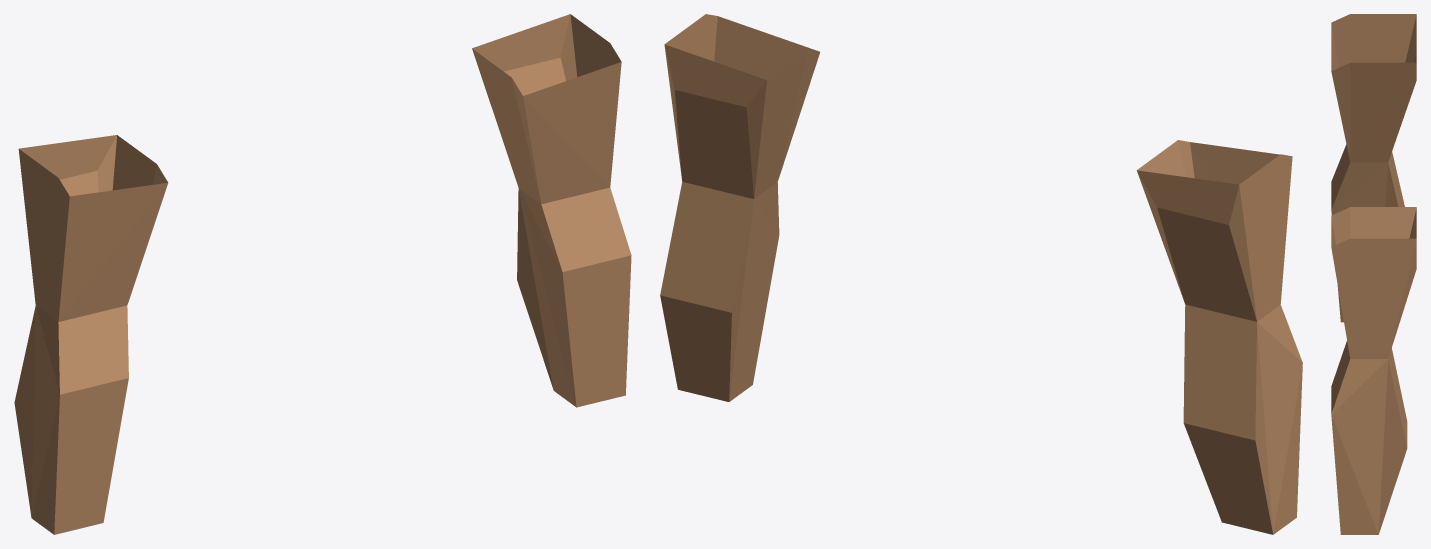
The model's file is npc_world_warrior_woman_2.obj.
3 renders of one model, left to right at view 1: azimuth 30°, elevation 25°; view 2: azimuth 150°, elevation 25°; view 3: azimuth 270°, elevation 25°, orthographic. The views are drawn at different scales.
Bounding box in the file's own units: 0.4531 × 0.2656 × 0.0703.
